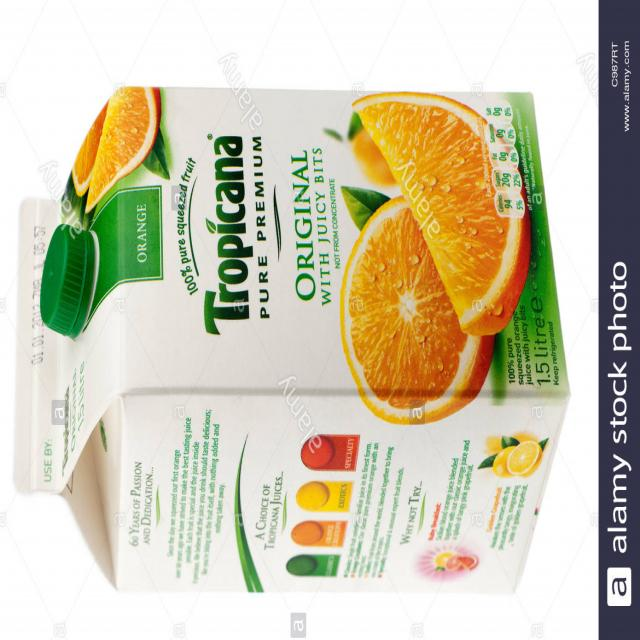non_white_jug: (16, 82, 573, 596)
